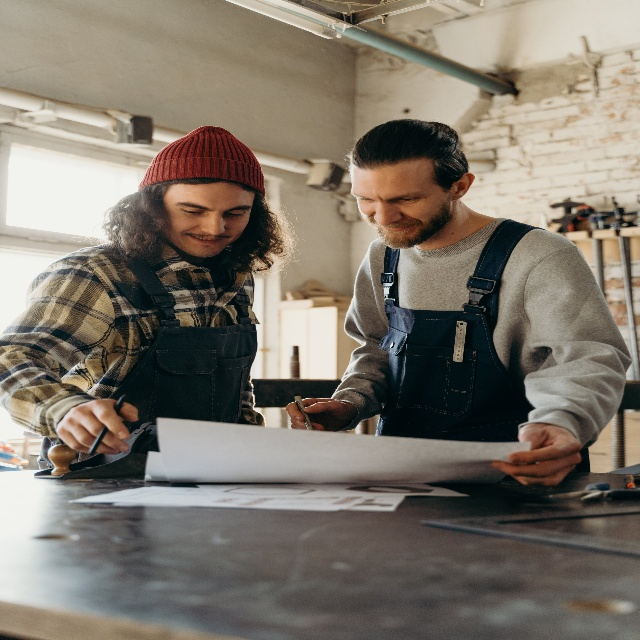Sin_guantes: (492, 427, 580, 489), (55, 396, 139, 455), (284, 392, 356, 434)
